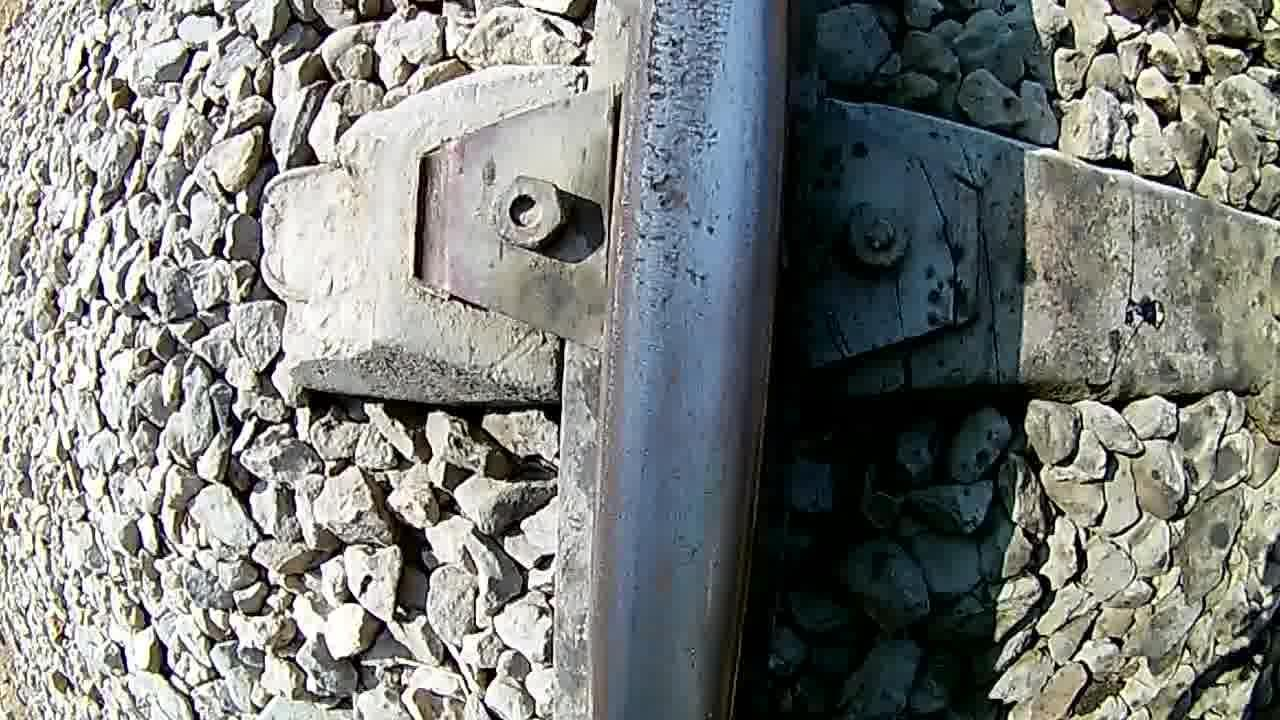crack: (616, 0, 750, 341)
